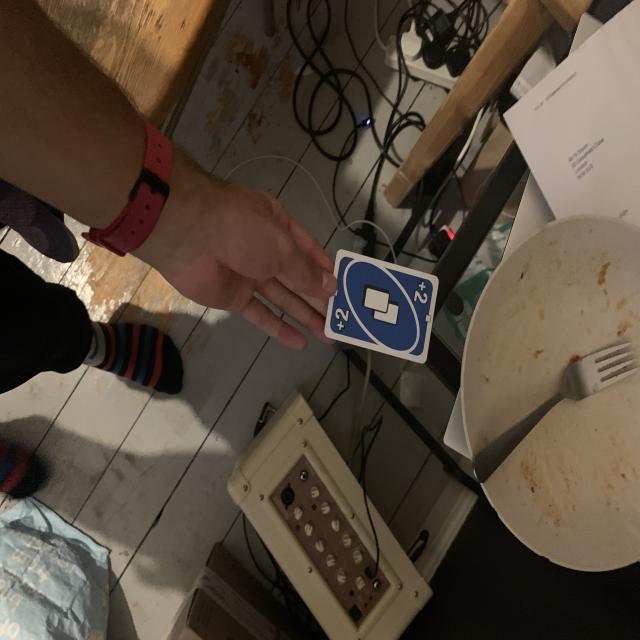lblue-20: (330, 303, 354, 334)
